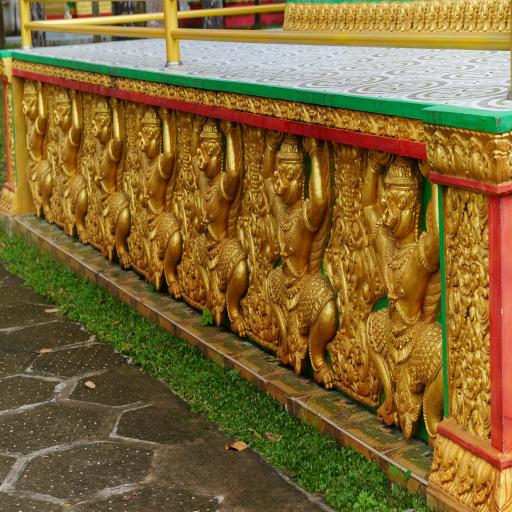than: (346, 133, 455, 441), (246, 127, 343, 398), (172, 106, 259, 336), (124, 94, 191, 290), (77, 87, 133, 267), (10, 60, 57, 229), (48, 81, 84, 238)
